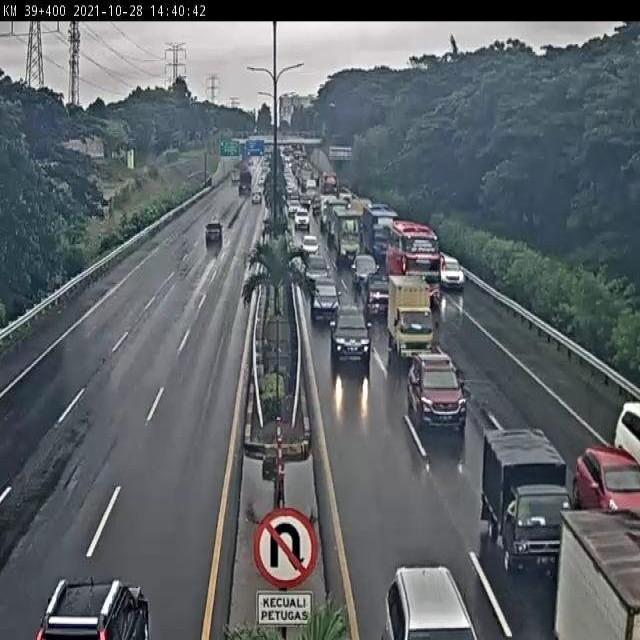bus-l-: (385, 220, 439, 297), (362, 200, 396, 255)
car: (575, 445, 640, 520), (406, 353, 468, 428), (330, 299, 368, 361), (311, 279, 342, 321), (363, 273, 392, 312), (437, 251, 466, 288), (351, 252, 376, 285), (304, 253, 330, 284), (202, 218, 226, 246)
truck-s-: (483, 431, 571, 565), (388, 276, 434, 360)
